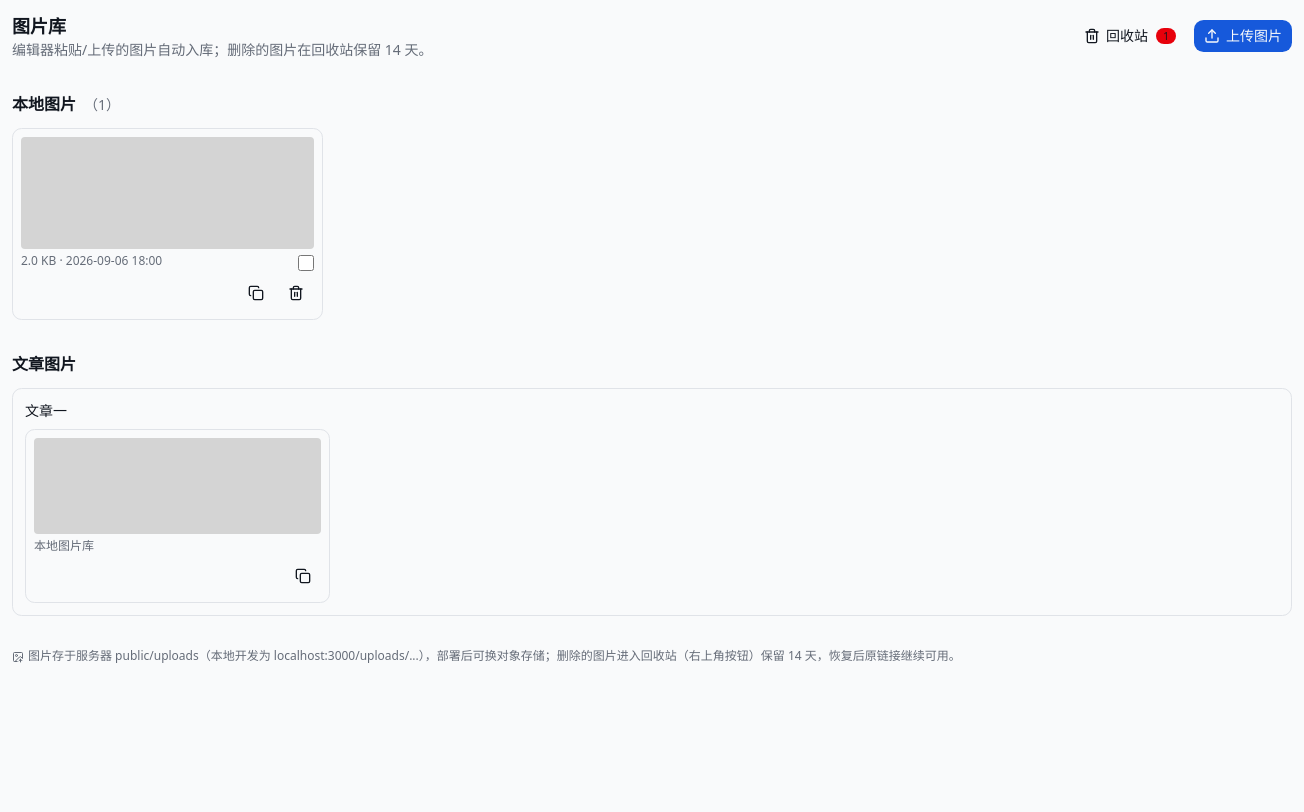
Test case: ImageLibraryClient 多选与批量 › 批量条有「取消选择」一键清空
Click the button with test id "select-a.png" at (168, 224), box [12, 128, 323, 320]
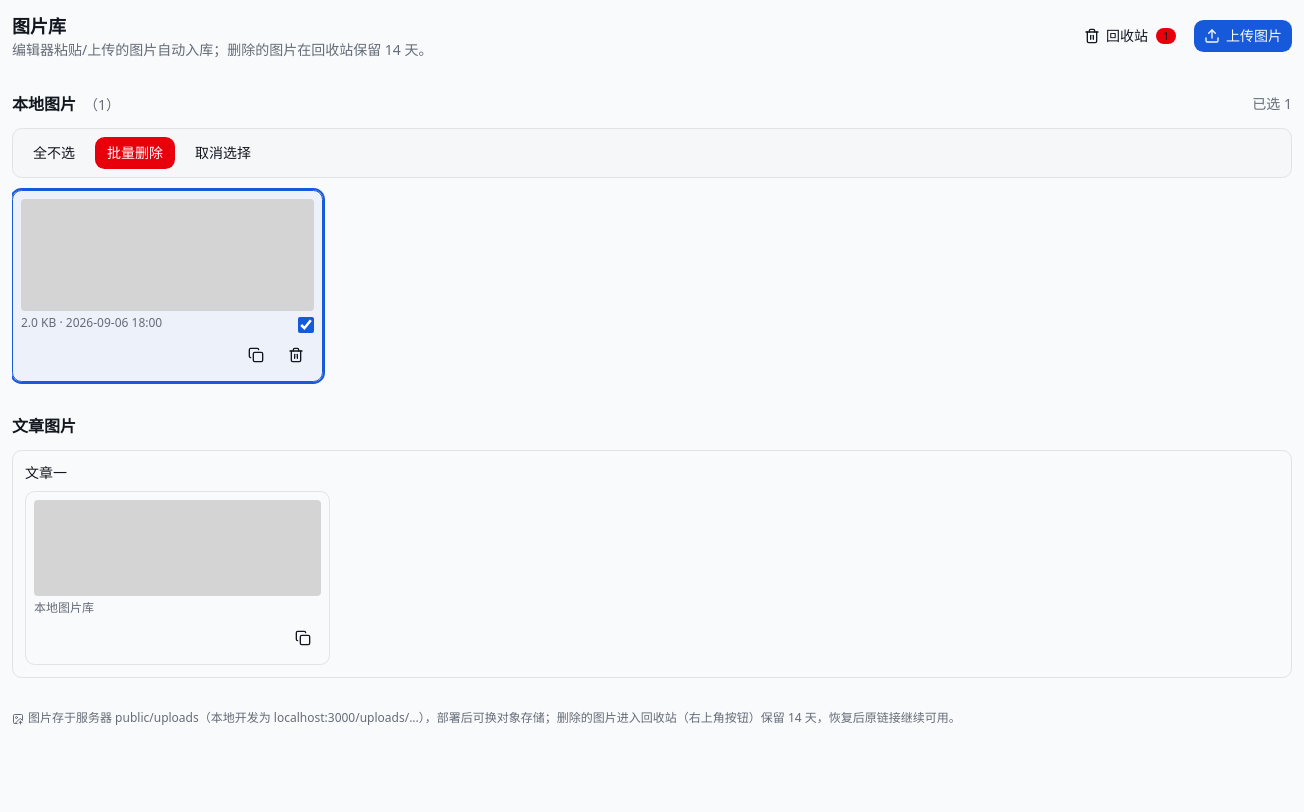
Check: the element with test id "batch-bar-local-image" is shown, box [12, 128, 1292, 178]
Click the button with test id "batch-clear-local-image" at (223, 153), box [183, 137, 263, 169]
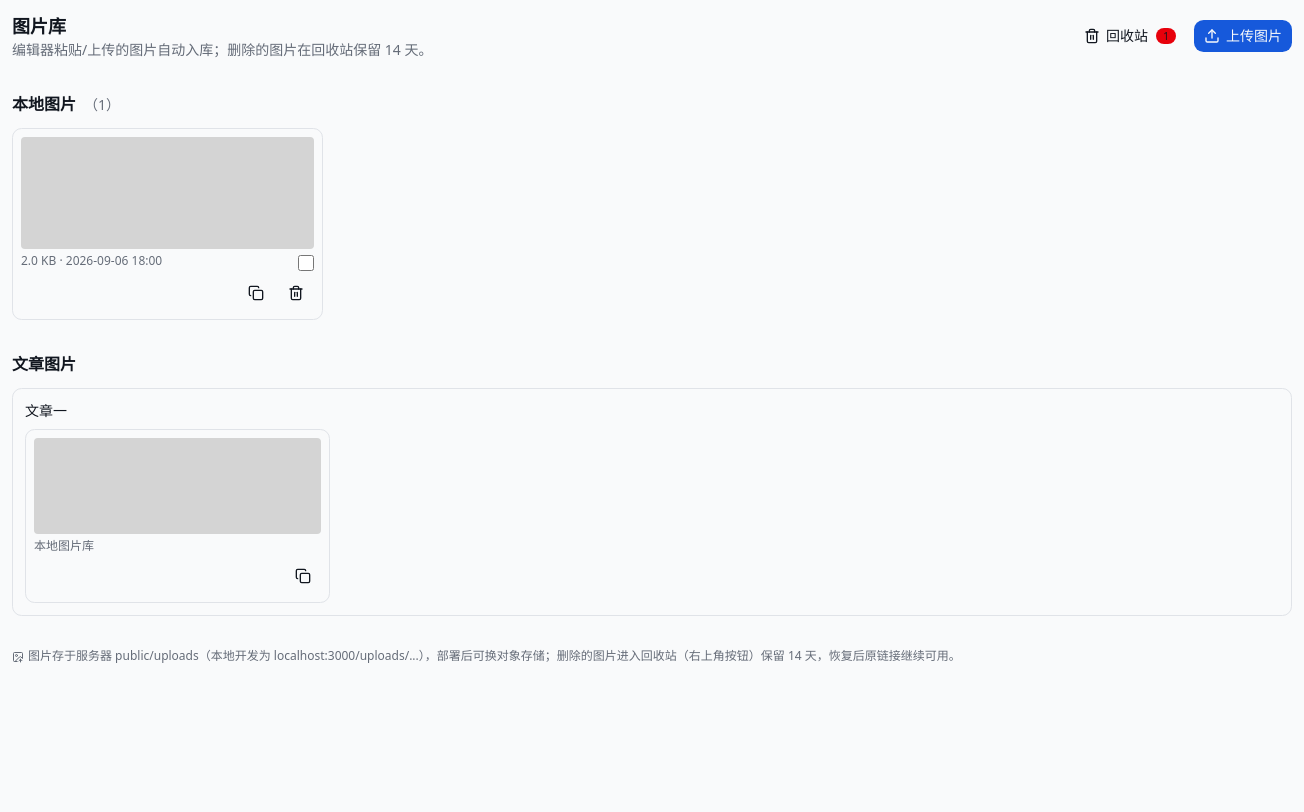
Check: the element with test id "batch-bar-local-image" is gone
